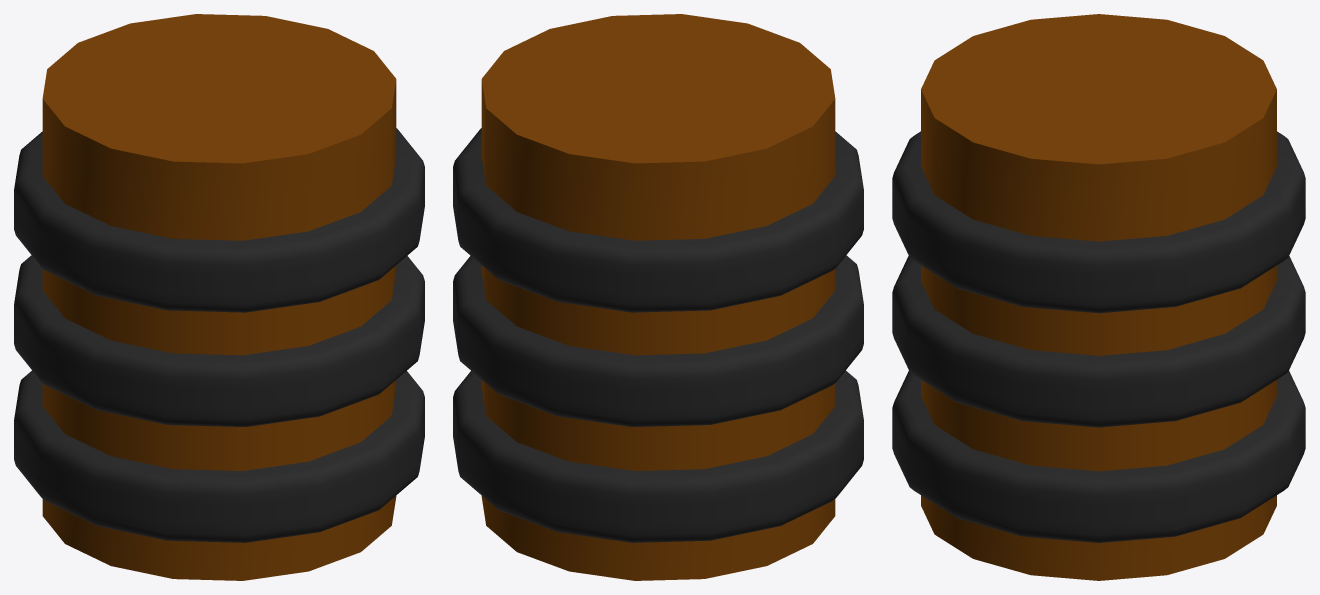
The model's file is Основа.fbx.
3 renders of one model, left to right at view 1: azimuth 30°, elevation 25°; view 2: azimuth 150°, elevation 25°; view 3: azimuth 270°, elevation 25°, orthographic.
Parts seen in each view (by area): view 1: Cylinder, Cylinder_2, Cylinder_3, Cylinder_4; view 2: Cylinder, Cylinder_2, Cylinder_3, Cylinder_4; view 3: Cylinder, Cylinder_2, Cylinder_3, Cylinder_4.
Part boxes in pixels (left/top/right/bottom): Cylinder: left=42, top=14, right=396, bottom=580; Cylinder_2: left=14, top=128, right=424, bottom=312; Cylinder_3: left=14, top=370, right=424, bottom=542; Cylinder_4: left=14, top=255, right=424, bottom=426; Cylinder: left=481, top=14, right=835, bottom=580; Cylinder_2: left=453, top=128, right=863, bottom=312; Cylinder_3: left=453, top=370, right=863, bottom=542; Cylinder_4: left=453, top=255, right=863, bottom=426; Cylinder: left=921, top=14, right=1276, bottom=580; Cylinder_2: left=892, top=131, right=1305, bottom=313; Cylinder_3: left=892, top=371, right=1305, bottom=542; Cylinder_4: left=892, top=256, right=1305, bottom=427.
Bounding box in the file's own units: 93.91 × 104 × 93.91.
